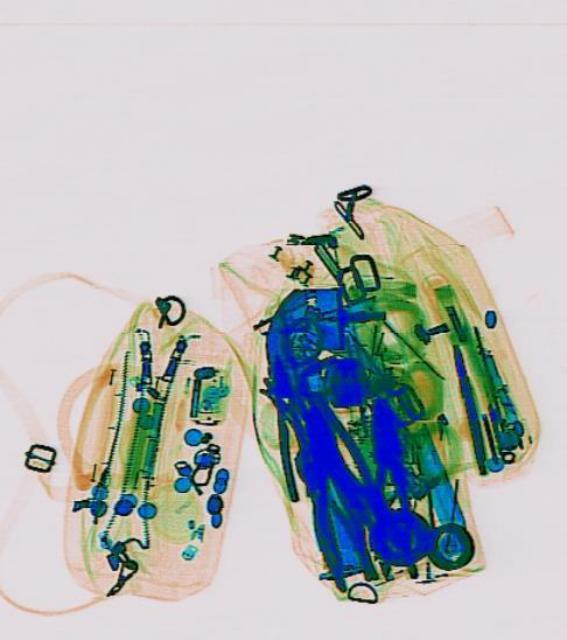Pliers: (282, 400, 377, 594), (360, 396, 418, 582), (259, 352, 318, 502)
